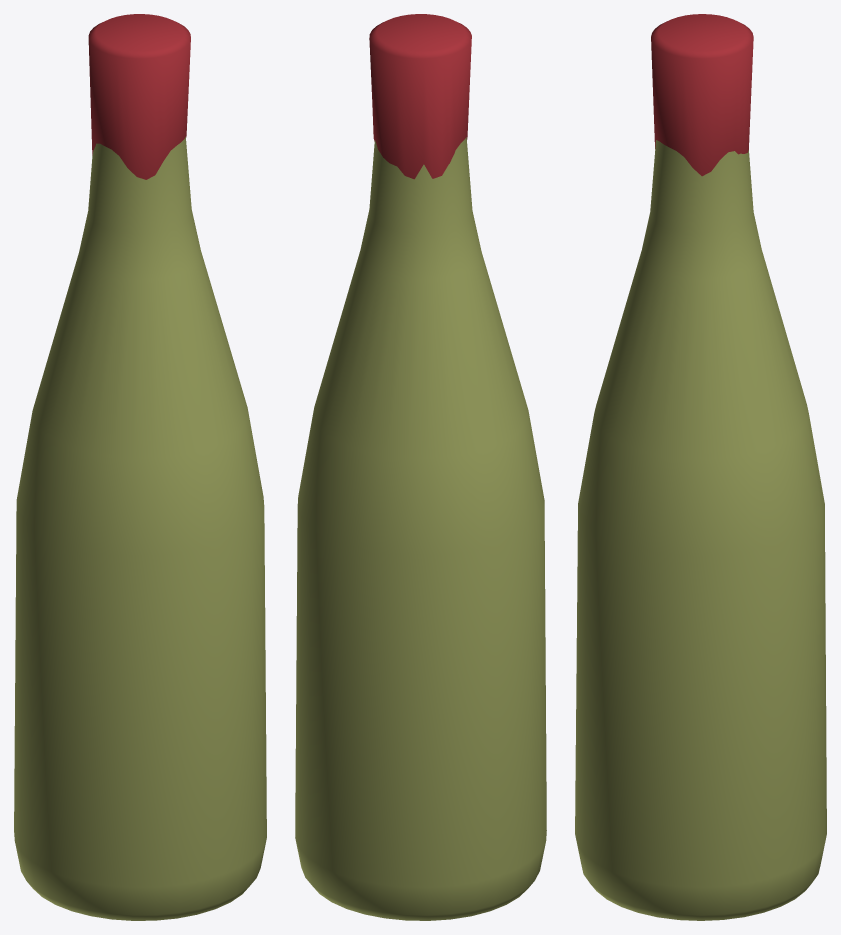
The model's file is bottle_burgundy_lod1.glb.
3 views of the same model, side by side, from view 1: azimuth 30°, elevation 25°; view 2: azimuth 150°, elevation 25°; view 3: azimuth 270°, elevation 25° (orthographic).
Visible parts, largest first — view 1: Glass, Cap; view 2: Glass, Cap; view 3: Glass, Cap.
Boxes of the visible parts, <box> form: Glass: <box>14,137,266,920</box>; Cap: <box>88,14,190,179</box>; Glass: <box>295,137,546,920</box>; Cap: <box>369,14,471,179</box>; Glass: <box>575,140,826,920</box>; Cap: <box>651,14,753,176</box>.
Size of the model in its own units: 0.081 by 0.2977 by 0.0806.
